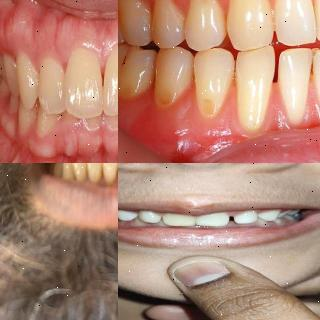Gum Swelling: (163, 85, 250, 146), (0, 16, 118, 52), (258, 84, 293, 130), (295, 82, 320, 128)
stains: (74, 168, 118, 184)
